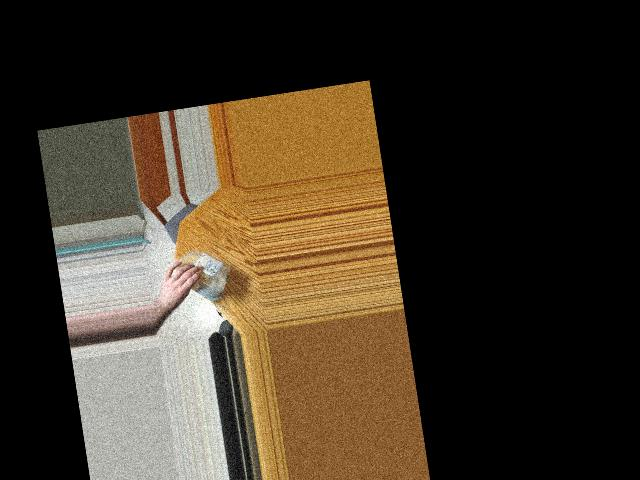cheese: (162, 243, 235, 304)
